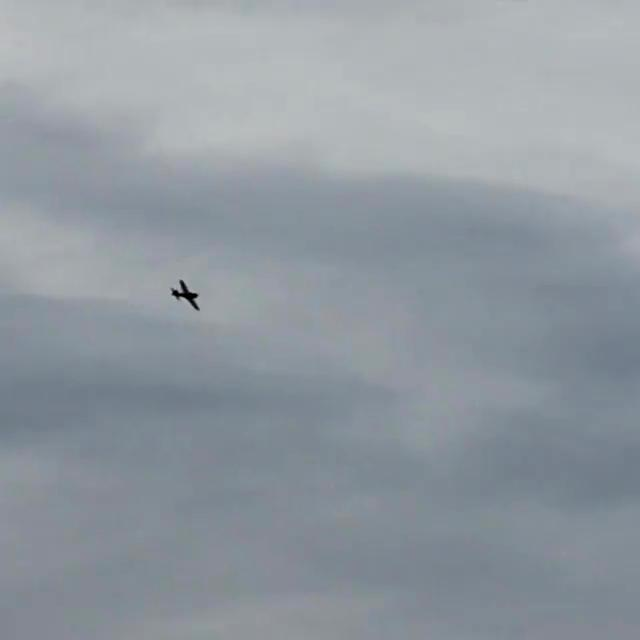iha: (169, 274, 203, 312)
